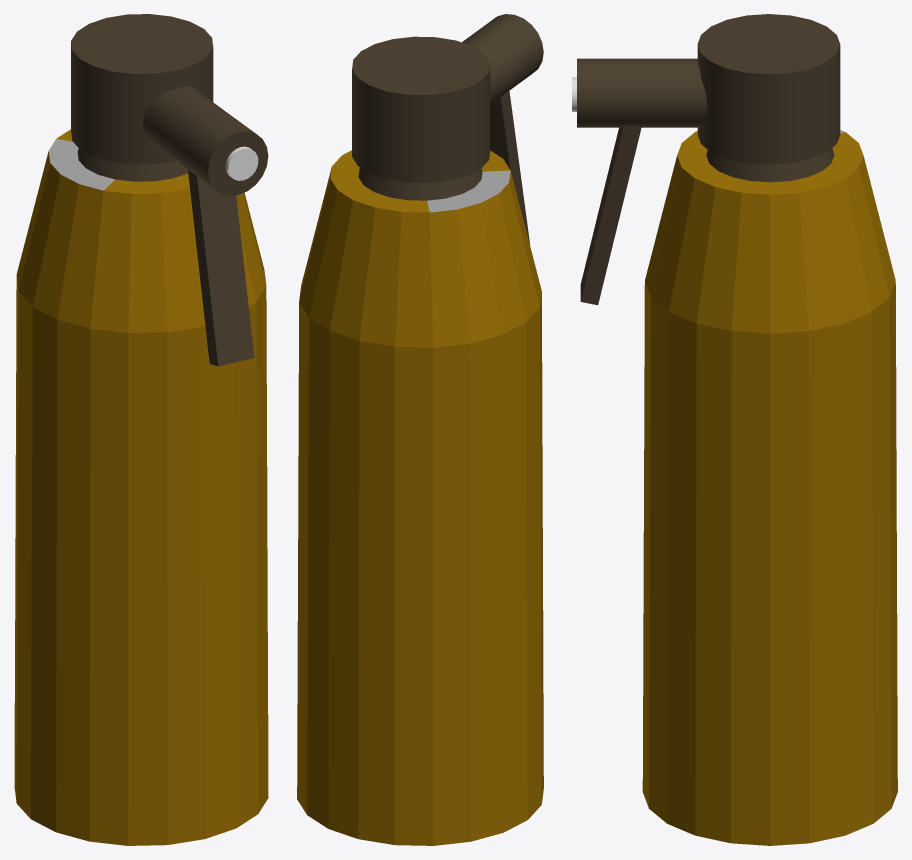
File: SprayBottle.fbx
3 renders of one model, left to right at view 1: azimuth 30°, elevation 25°; view 2: azimuth 150°, elevation 25°; view 3: azimuth 270°, elevation 25°, orthographic. The views are drawn at different scales.
Parts seen in each view (by area): view 1: Body, pCylinder9, pCube1, pCylinder7, pCylinder5, pCylinder8; view 2: Body, pCylinder9, pCylinder7, pCylinder5, pCube1; view 3: Body, pCylinder9, pCylinder7, pCube1, pCylinder5.
Part boxes in pixels (bbox=[...]): Body: bbox=[14, 129, 268, 845]; pCylinder9: bbox=[71, 14, 213, 164]; pCube1: bbox=[188, 170, 254, 366]; pCylinder7: bbox=[143, 86, 268, 195]; pCylinder5: bbox=[77, 148, 188, 181]; pCylinder8: bbox=[225, 146, 258, 180]; Body: bbox=[297, 150, 543, 845]; pCylinder9: bbox=[352, 36, 490, 182]; pCylinder7: bbox=[462, 14, 543, 104]; pCylinder5: bbox=[358, 167, 482, 200]; pCube1: bbox=[490, 91, 529, 244]; Body: bbox=[642, 130, 897, 845]; pCylinder9: bbox=[697, 14, 840, 164]; pCylinder7: bbox=[577, 58, 707, 127]; pCube1: bbox=[580, 127, 641, 305]; pCylinder5: bbox=[706, 148, 834, 182].
Bounding box in the file's own units: 2 × 6.47 × 2.55.
